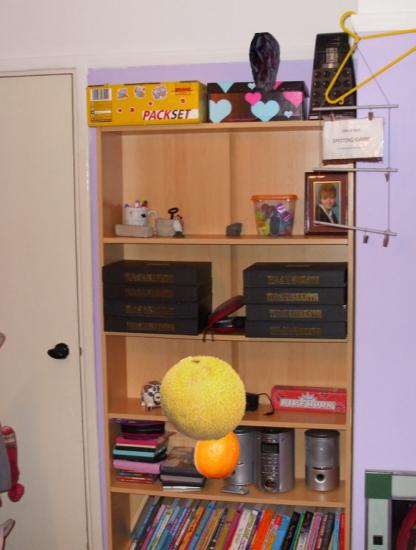Cantaloupe: (160, 354, 248, 442)
Dates: (235, 32, 296, 93)
Lemon: (190, 425, 245, 480)
